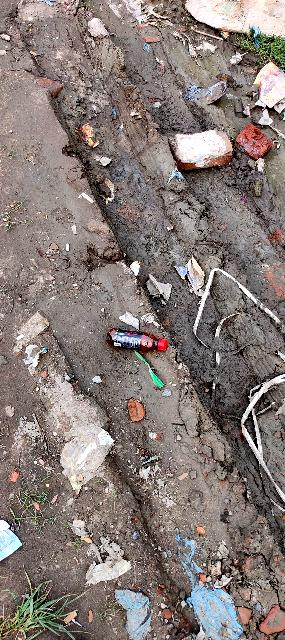bottle: (105, 313, 176, 366)
